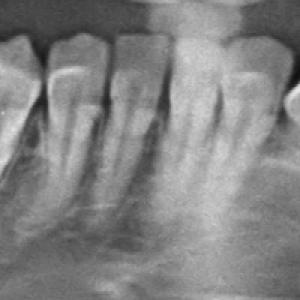tooth: (218, 33, 296, 187), (44, 33, 110, 182), (171, 39, 217, 205), (114, 30, 170, 160), (0, 25, 46, 170)
